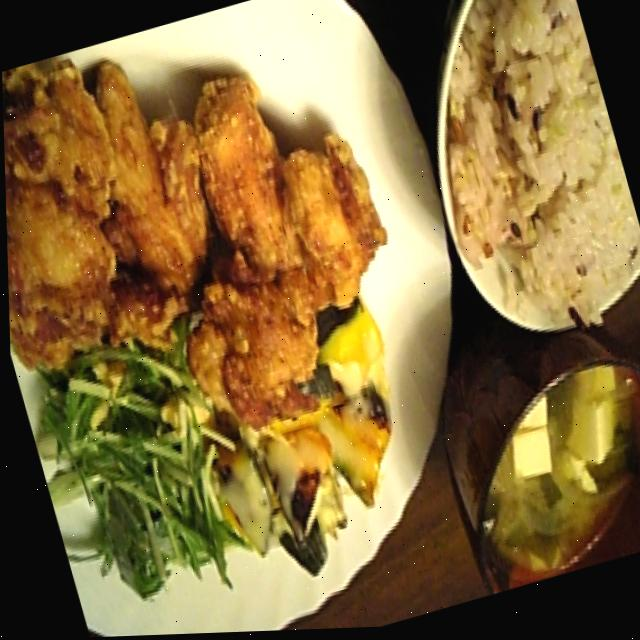汤锅炖物: (419, 343, 640, 602)
米饭主食: (383, 0, 640, 365)
鸡肉料理 含炸鸡: (0, 0, 494, 625)
